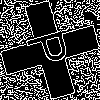P: (25, 25, 78, 69)
